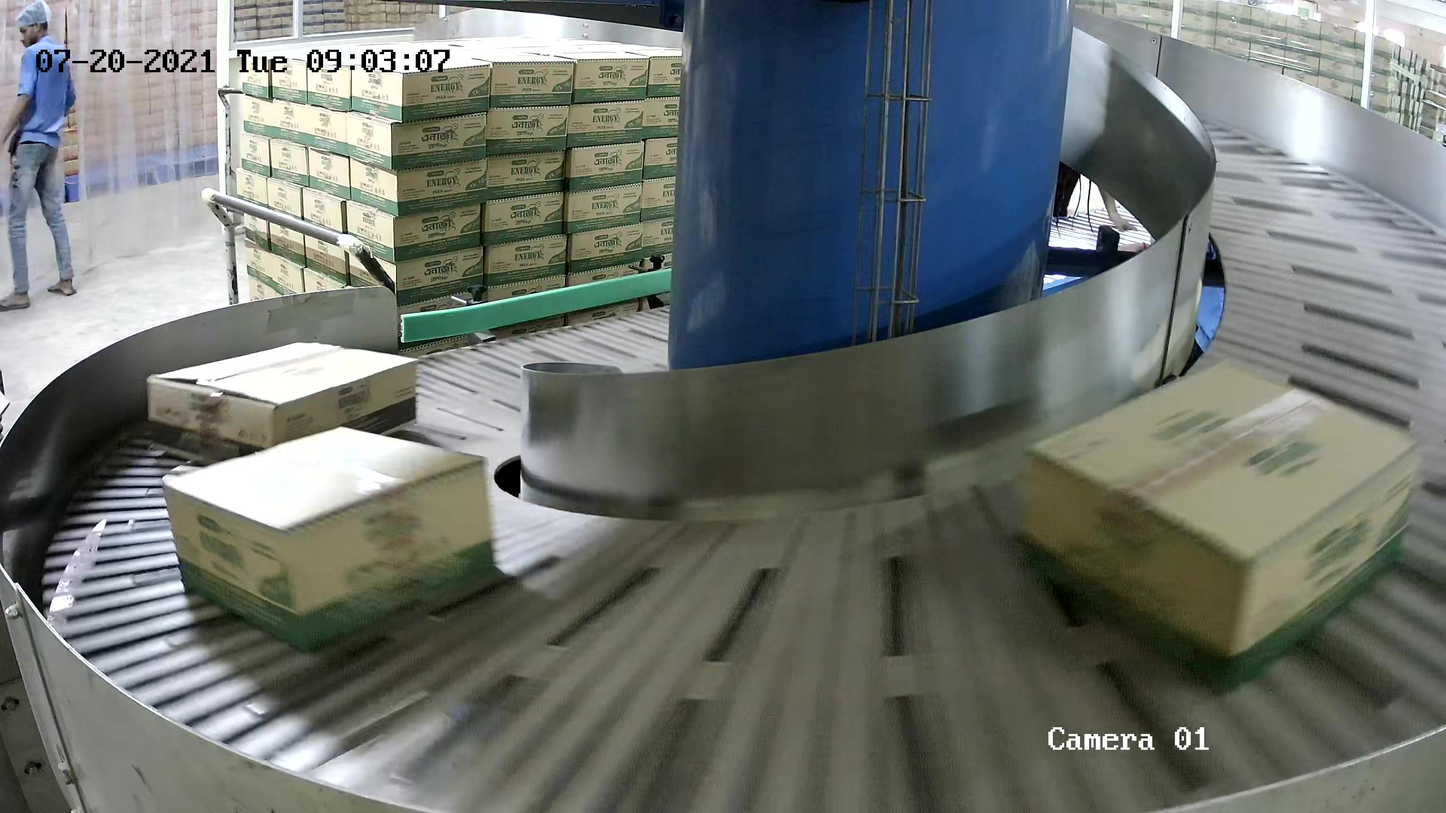Box: (1010, 351, 1426, 699), (159, 422, 502, 654), (144, 340, 420, 468)
